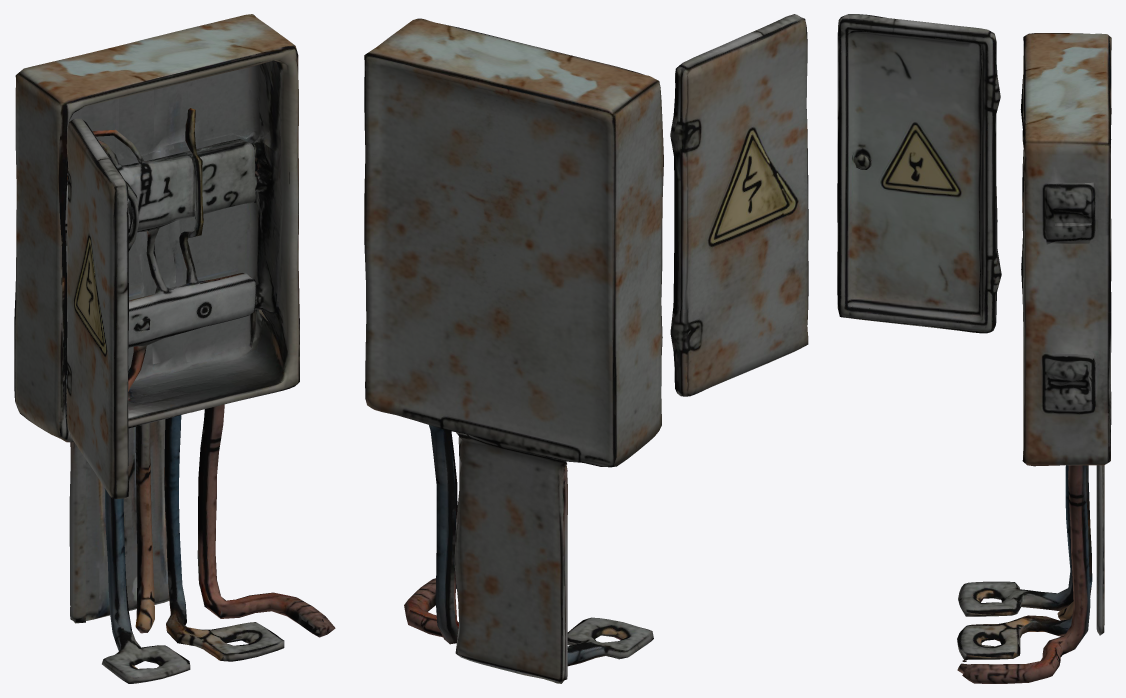
File: electrical+cabinet+3d+model.fbx
3 views of the same model, side by side, from view 1: azimuth 30°, elevation 25°; view 2: azimuth 150°, elevation 25°; view 3: azimuth 270°, elevation 25° (orthographic). The views are drawn at different scales.
Parts seen in each view (by area): view 1: tripo_node_55e24241; view 2: tripo_node_55e24241; view 3: tripo_node_55e24241.
Boxes of the visible parts, box(x1,y1,x2,y2) form: tripo_node_55e24241: box(14, 14, 335, 683); tripo_node_55e24241: box(364, 14, 808, 683); tripo_node_55e24241: box(837, 14, 1111, 683).
Bounding box in the file's own units: 0.5369 × 0.9993 × 0.457.
Materials: 1 (1 with a texture image).
